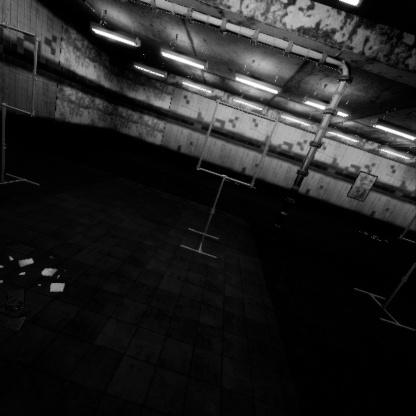gate: (196, 227, 284, 317)
